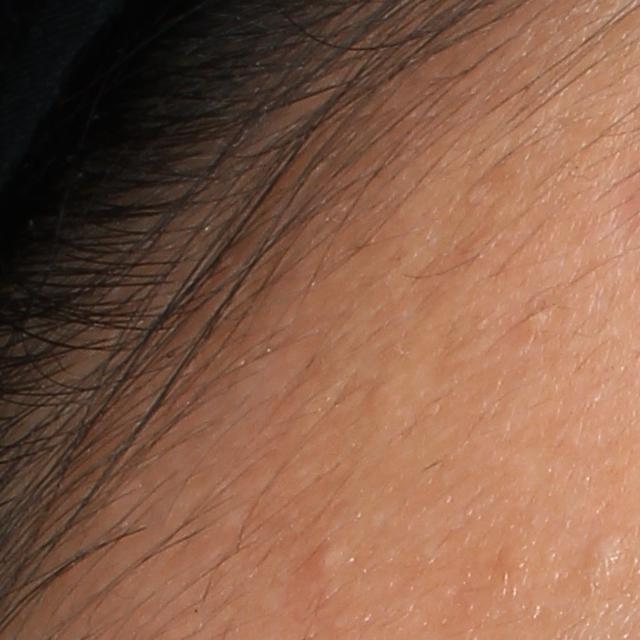comedo: (588, 530, 621, 567), (518, 305, 554, 332), (309, 549, 341, 575)
